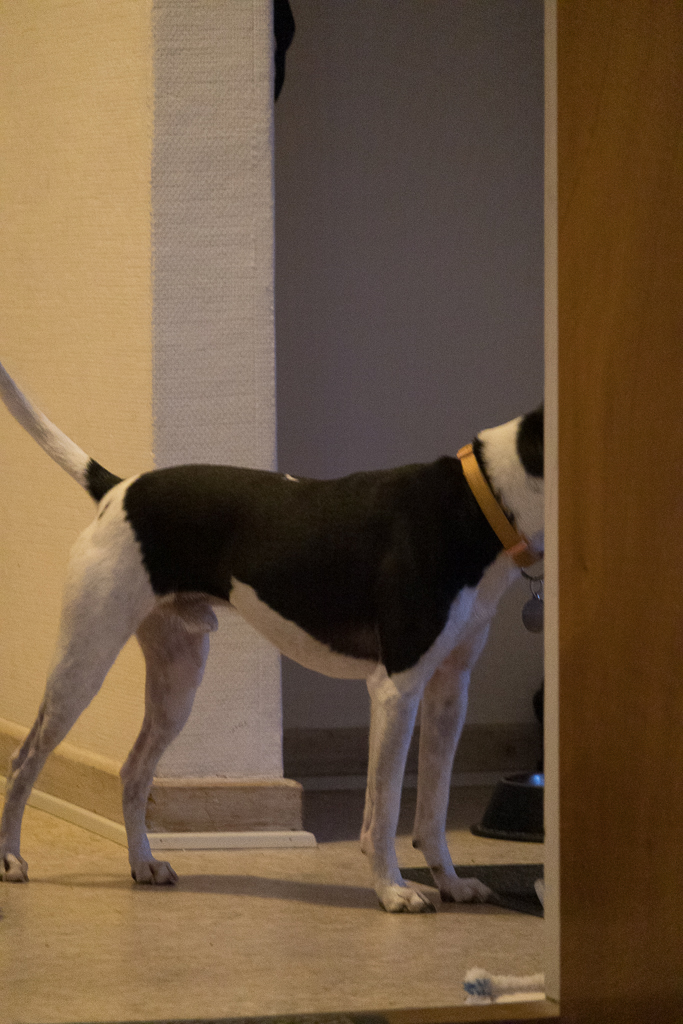Dog: (0, 350, 562, 926)
